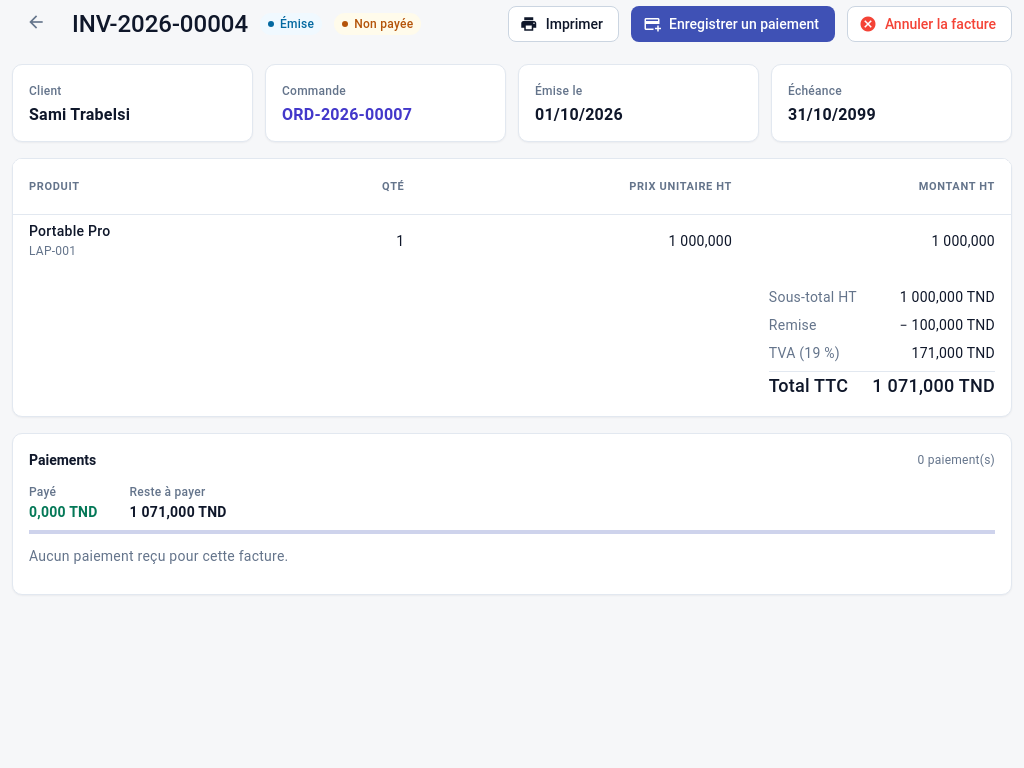
Test case: InvoiceDetailComponent › lets a manager cancel an unpaid invoice after a destructive confirmation
The width and height of the screenshot is (1024, 768).
Click the button with id "cancel-button" at (929, 24), box [847, 6, 1012, 42]
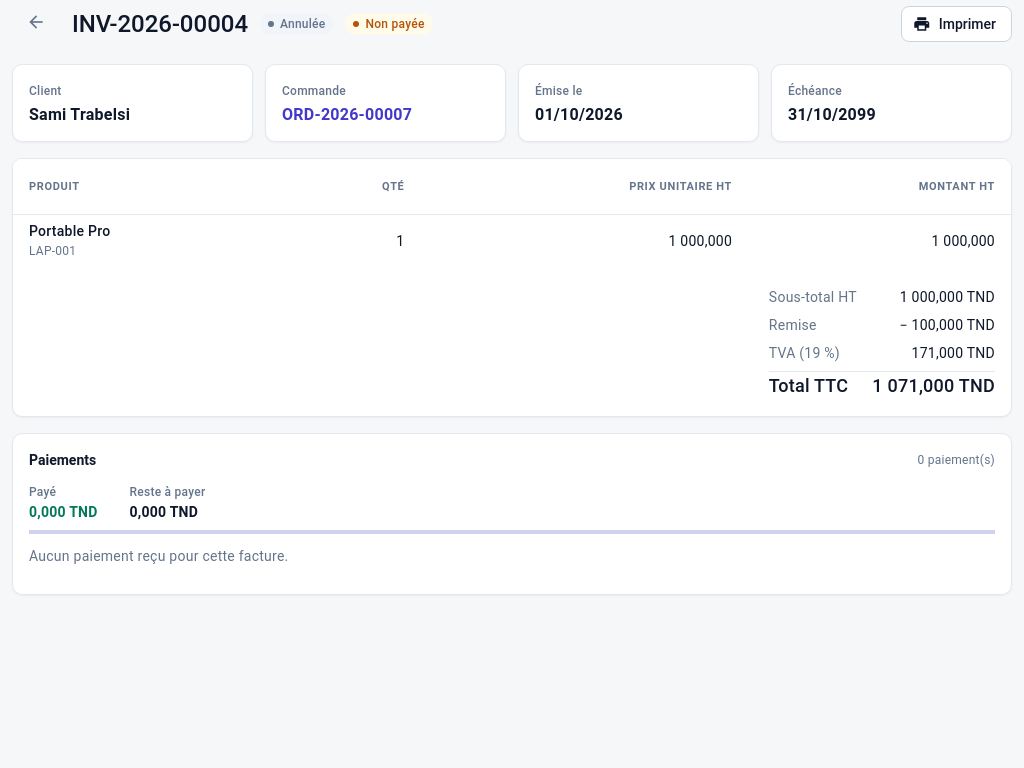
Result: the button with id "cancel-button" is gone
Result: the text "Annulée" is shown at [260, 13, 334, 35]
